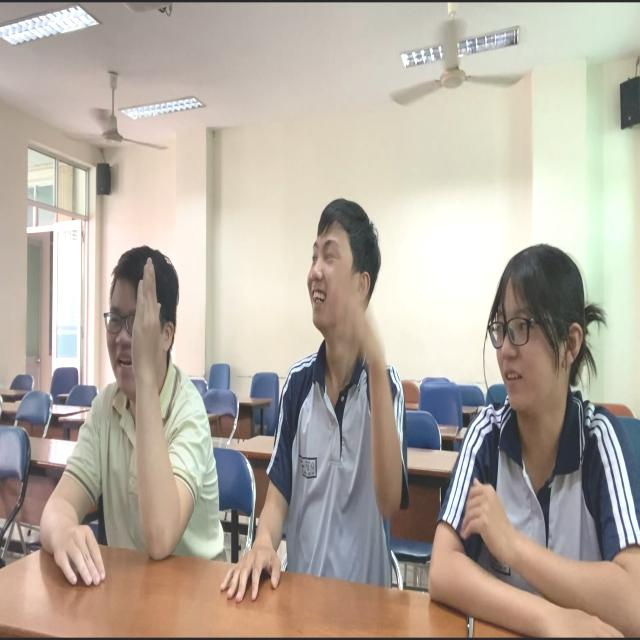raise_hand: (44, 244, 222, 596)
